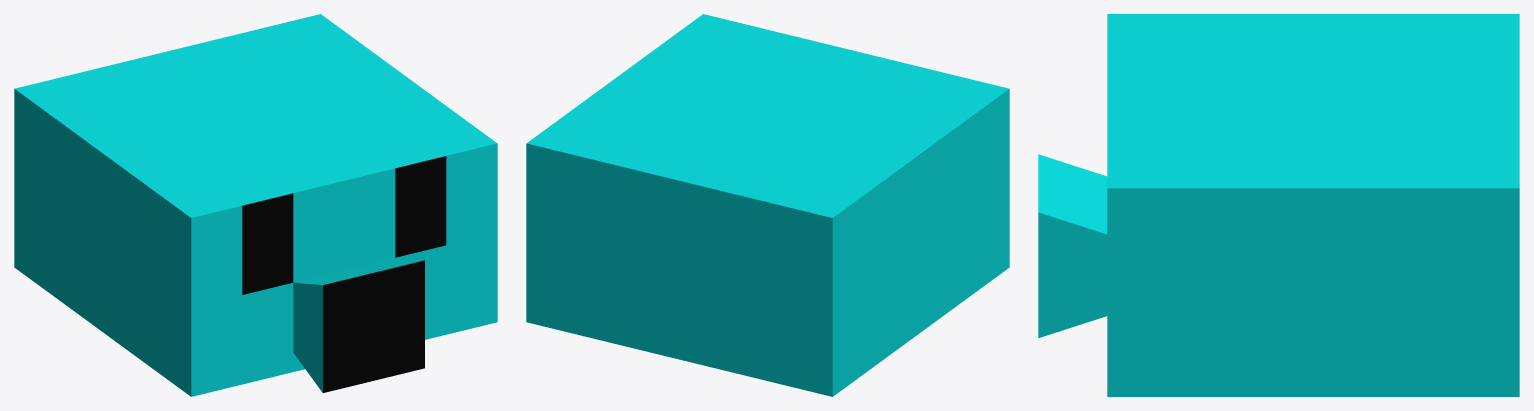
File: TempPapelito02.fbx
3 renders of one model, left to right at view 1: azimuth 30°, elevation 25°; view 2: azimuth 150°, elevation 25°; view 3: azimuth 270°, elevation 25°, orthographic. The views are drawn at different scales.
Visible parts, largest first — view 1: Papelito02; view 2: Papelito02; view 3: Papelito02.
Part boxes in pixels (bbox=[...]): Papelito02: bbox=[14, 14, 497, 396]; Papelito02: bbox=[526, 14, 1009, 396]; Papelito02: bbox=[1038, 14, 1519, 396].
Bounding box in the file's own units: 200 × 112 × 233.
